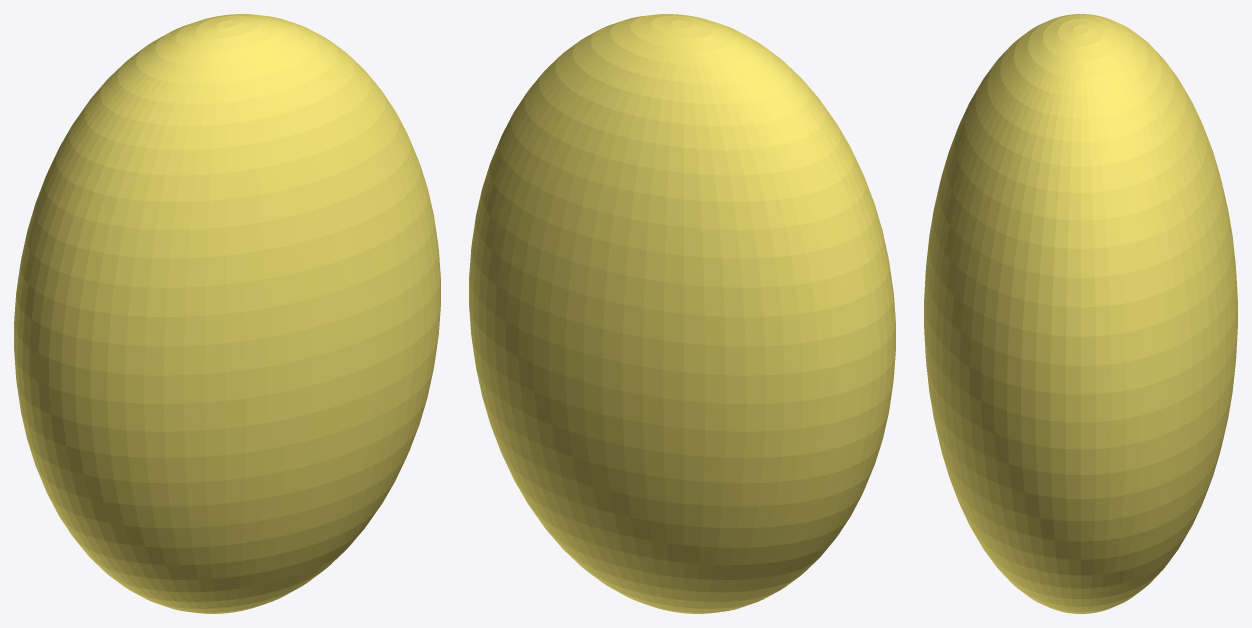
File: ellipsoid.glb
3 views of the same model, side by side, from view 1: azimuth 30°, elevation 25°; view 2: azimuth 150°, elevation 25°; view 3: azimuth 270°, elevation 25° (orthographic).
Bounding box in the file's own units: 21.97 × 30.76 × 15.38.
